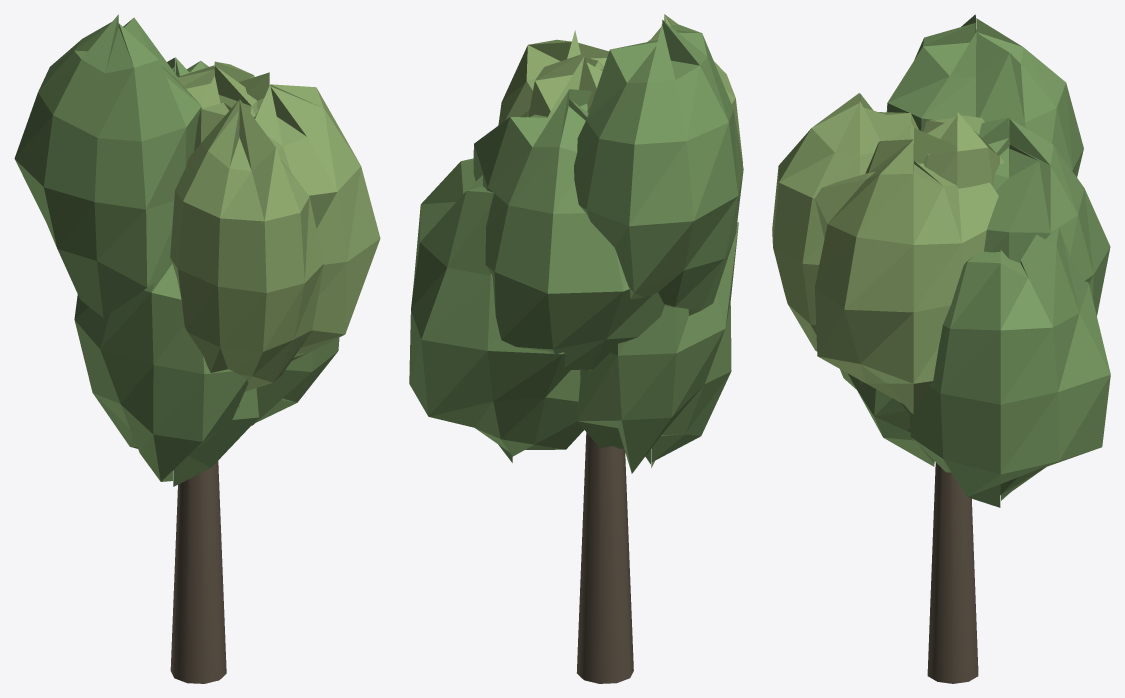
Rendered from ornamental_tree_variant_02.glb.
The picture shows the model from 3 angles, left to right: view 1: azimuth 30°, elevation 25°; view 2: azimuth 150°, elevation 25°; view 3: azimuth 270°, elevation 25°; orthographic projection. The views are drawn at different scales.
Visible parts, largest first — view 1: static_leaf_oak, static_leaf_light, static_bark; view 2: static_leaf_oak, static_bark, static_leaf_light; view 3: static_leaf_oak, static_leaf_light, static_bark.
Boxes of the visible parts, x1,y1,x2,y2 form: static_leaf_oak: [14, 14, 339, 486]; static_leaf_light: [170, 61, 380, 408]; static_bark: [170, 461, 226, 683]; static_leaf_oak: [409, 19, 743, 473]; static_bark: [576, 432, 633, 683]; static_leaf_light: [498, 14, 742, 163]; static_leaf_oak: [840, 14, 1110, 507]; static_leaf_light: [772, 93, 1009, 413]; static_bark: [927, 462, 978, 683].
Size of the model in its own units: 2.5 by 5.22 by 2.55.
